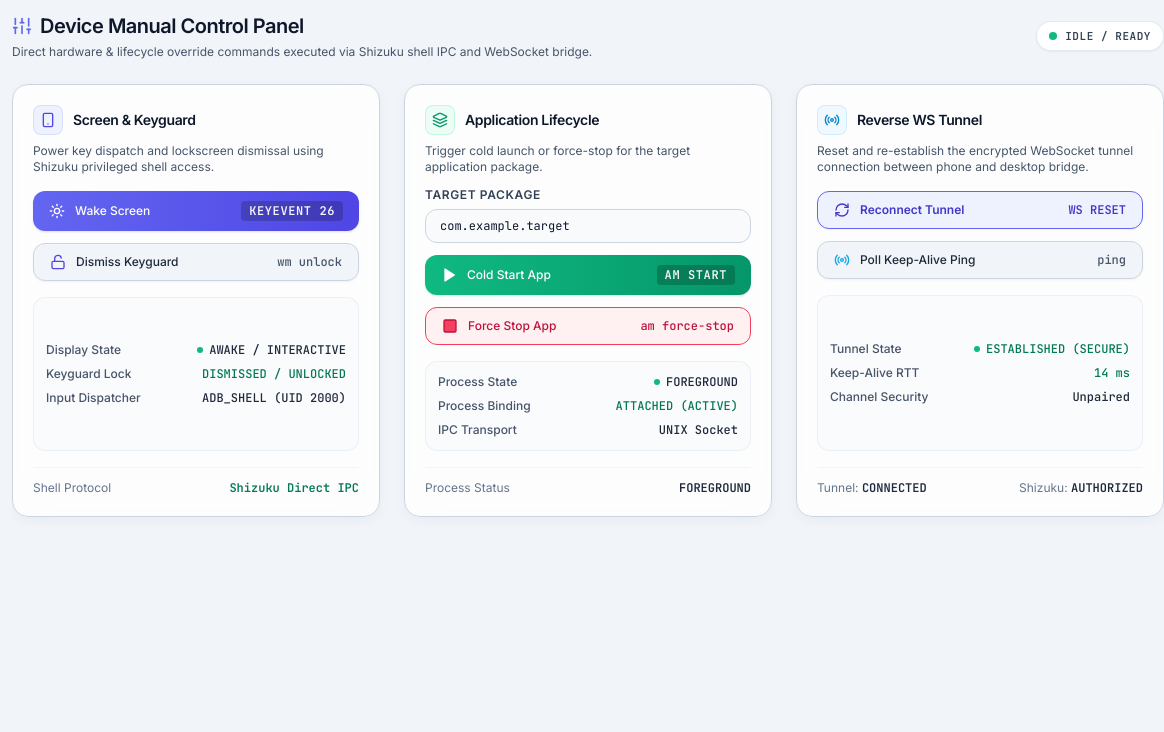
it: ControlPanel Component › validates package name and disables lifecycle buttons for invalid syntax
This screenshot has width=1164, height=732.
Expected: the button with test id "btn-cold-start" is enabled, x1=425 y1=255 x2=751 y2=295
Expected: the button with test id "btn-force-stop" is enabled, x1=425 y1=307 x2=751 y2=345
Note: Type invalid package name
Type "invalid-package-name!" into the field with test id "input-package-name" at (588, 226), box x1=425 y1=209 x2=751 y2=243
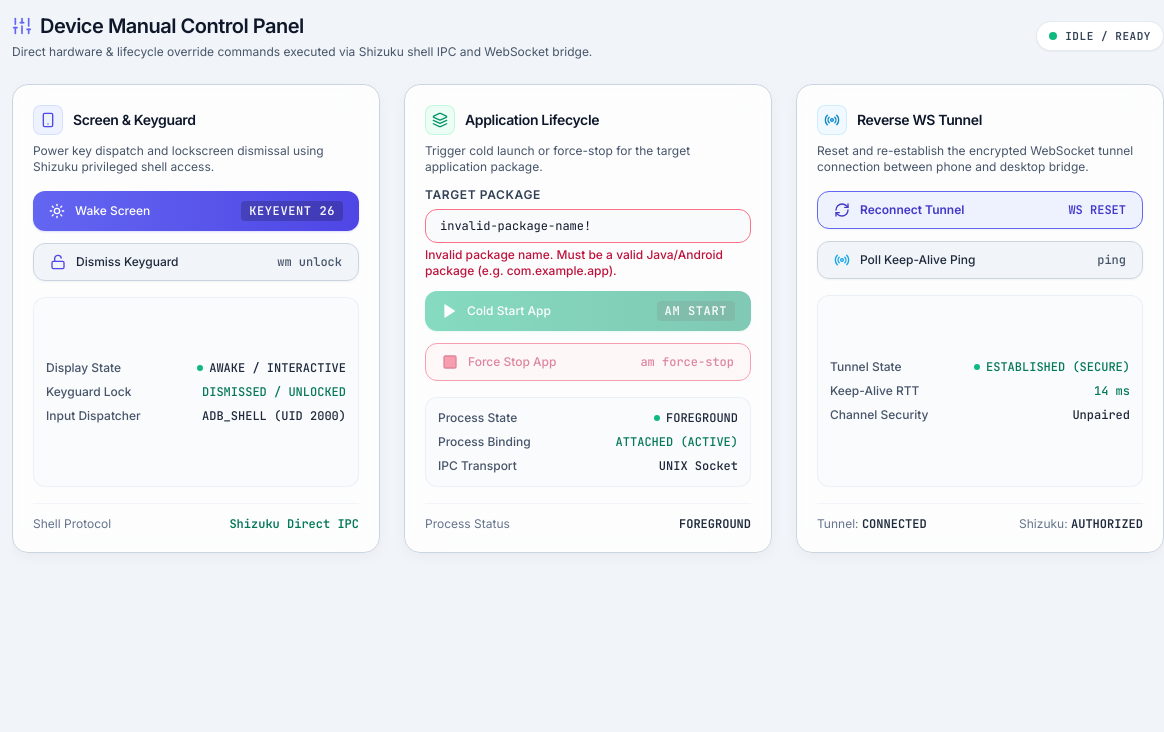
Expected: the text with test id "package-validation-error" is shown, x1=425 y1=247 x2=751 y2=279
Expected: the button with test id "btn-cold-start" is disabled, x1=425 y1=291 x2=751 y2=331
Expected: the button with test id "btn-force-stop" is disabled, x1=425 y1=343 x2=751 y2=381
Note: Fix package name
Replace the text in the field with test id "input-package-name" with "com.valid.app_one" at (588, 226), box x1=425 y1=209 x2=751 y2=243
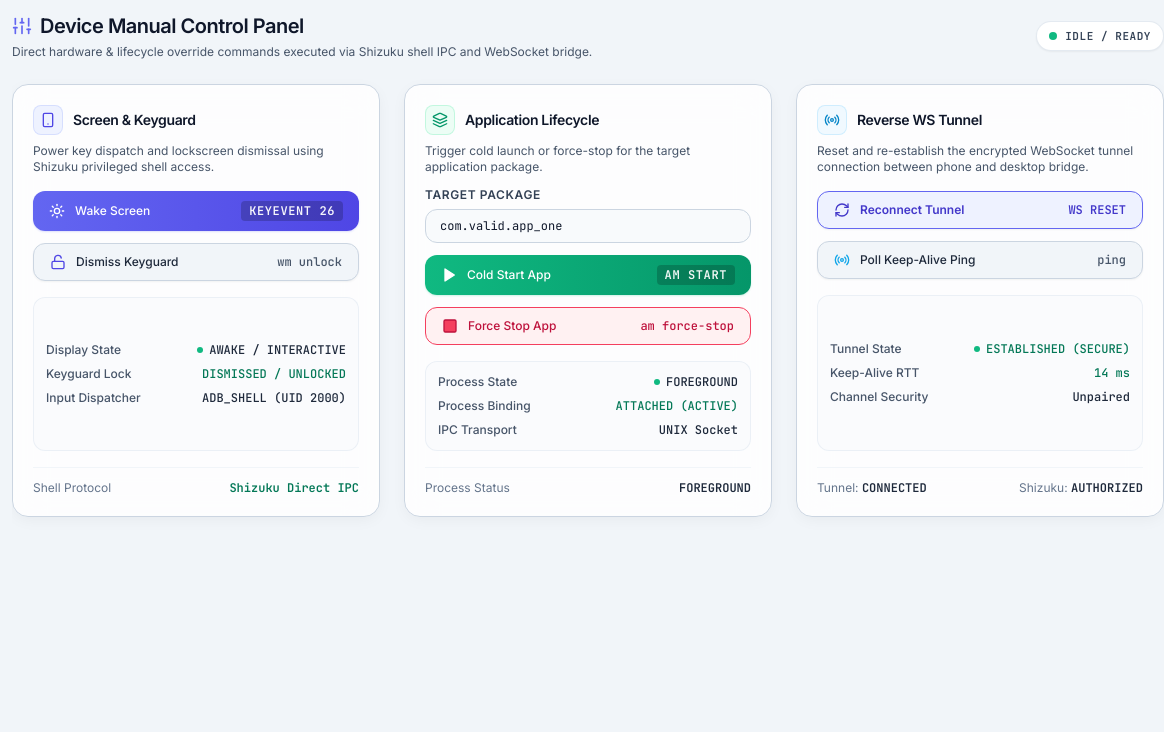
Expected: the text with test id "package-validation-error" is gone
Expected: the button with test id "btn-cold-start" is enabled, x1=425 y1=255 x2=751 y2=295
Expected: the button with test id "btn-force-stop" is enabled, x1=425 y1=307 x2=751 y2=345
